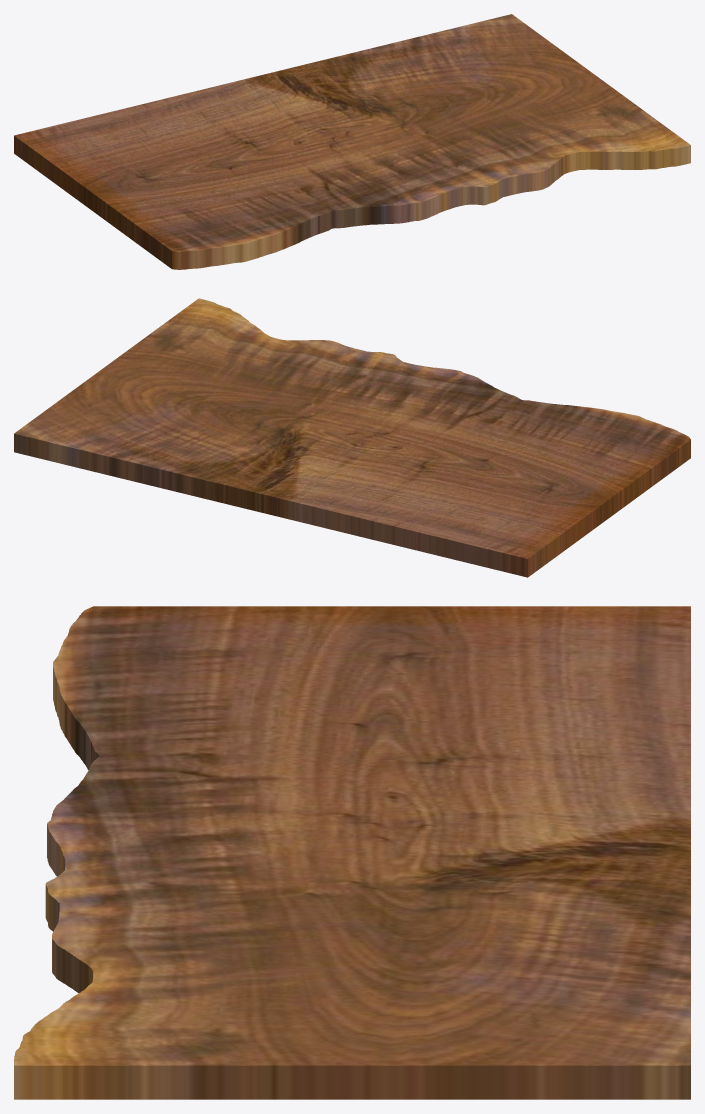
Rendered from counterTop40LiveEdge.glb.
3 views of the same model, one above another, from view 1: azimuth 30°, elevation 25°; view 2: azimuth 150°, elevation 25°; view 3: azimuth 270°, elevation 25° (orthographic). The views are drawn at different scales.
Visible parts, largest first — view 1: luxLiveEdgeWorkSurface; view 2: luxLiveEdgeWorkSurface; view 3: luxLiveEdgeWorkSurface.
Boxes of the visible parts, <box> form: luxLiveEdgeWorkSurface: <box>14,14,690,269</box>; luxLiveEdgeWorkSurface: <box>14,298,690,577</box>; luxLiveEdgeWorkSurface: <box>14,606,690,1099</box>.
Size of the model in its own units: 1.02 by 0.0353 by 0.633.
Materials: 1 (1 with a texture image).
